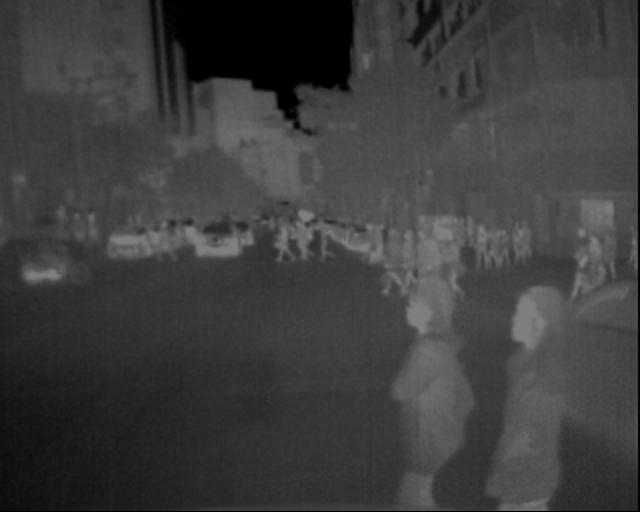person: (477, 272, 594, 512), (366, 265, 466, 512), (435, 217, 532, 277), (402, 218, 450, 333), (266, 208, 340, 274), (28, 223, 76, 287), (372, 221, 405, 301), (577, 231, 607, 301), (575, 231, 596, 281)
